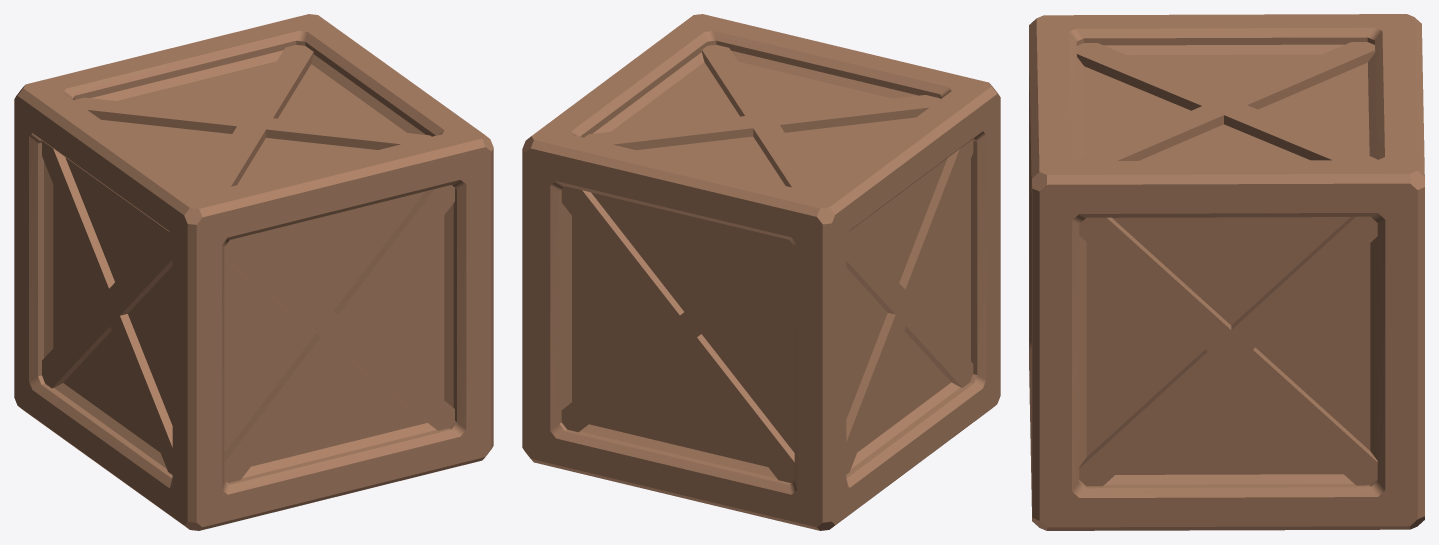
File: Crate.fbx
The picture shows the model from 3 angles, left to right: view 1: azimuth 30°, elevation 25°; view 2: azimuth 150°, elevation 25°; view 3: azimuth 270°, elevation 25°; orthographic projection. The views are drawn at different scales.
Visible parts, largest first — view 1: Crate; view 2: Crate; view 3: Crate.
Boxes of the visible parts, box(x1,y1,x2,y2) form: Crate: box(14, 14, 493, 530); Crate: box(522, 14, 1000, 530); Crate: box(1029, 14, 1424, 530).
Bounding box in the file's own units: 18.58 × 18.43 × 18.58.
